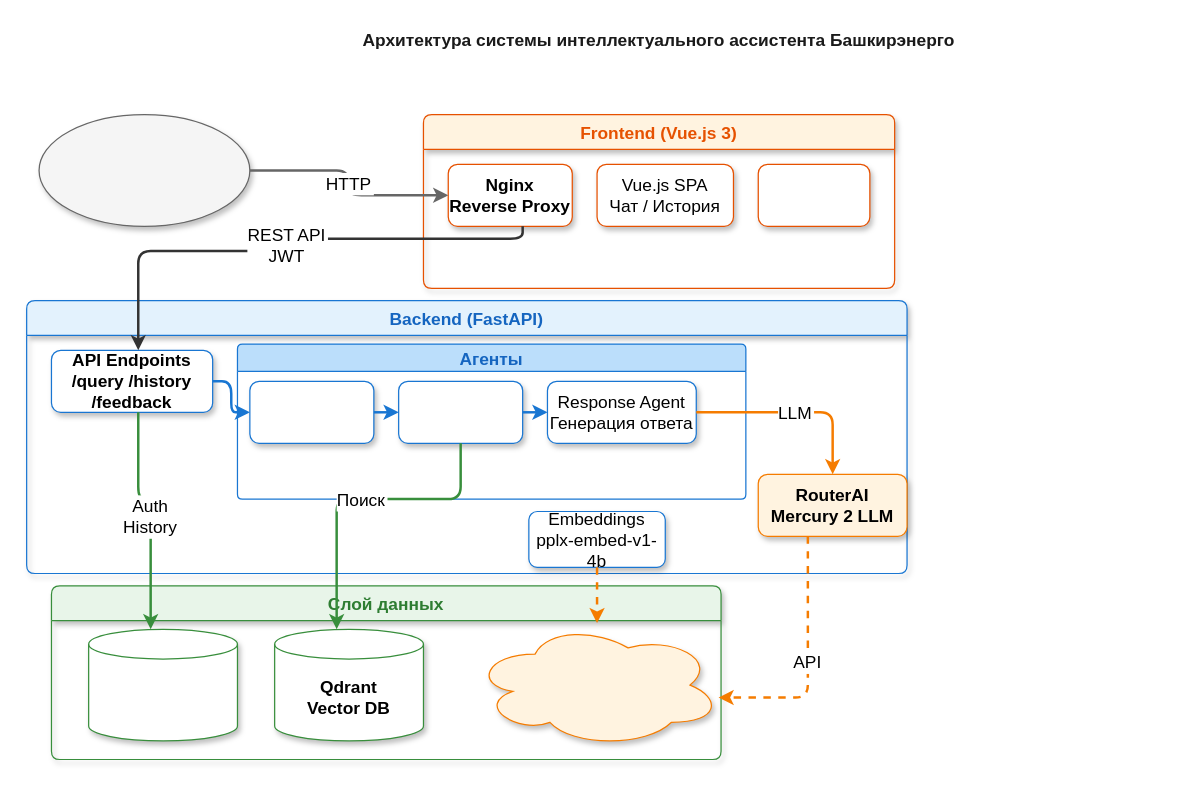
The diagram is 1177 pixels wide and 790 high, and some of its shapes have lost their labels. Here are the shapes that lost their labels. From the top down, the centre of each, then its label:
At point 145,171: "👤 Пользователь".
At point 814,196: "Auth UI JWT".
At point 312,413: "Query Generator Классификация".
At point 461,413: "Search Agent Гибридный поиск".
At point 163,686: "Supabase PostgreSQL".
At point 597,686: "RouterAI Cloud LLM + Embeddings".
